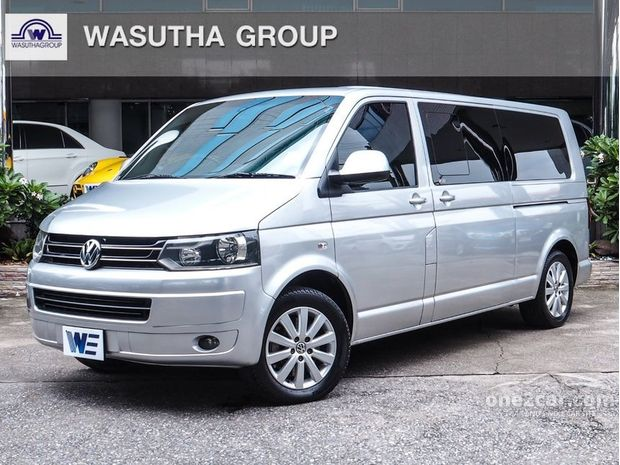van: (26, 85, 592, 404)
